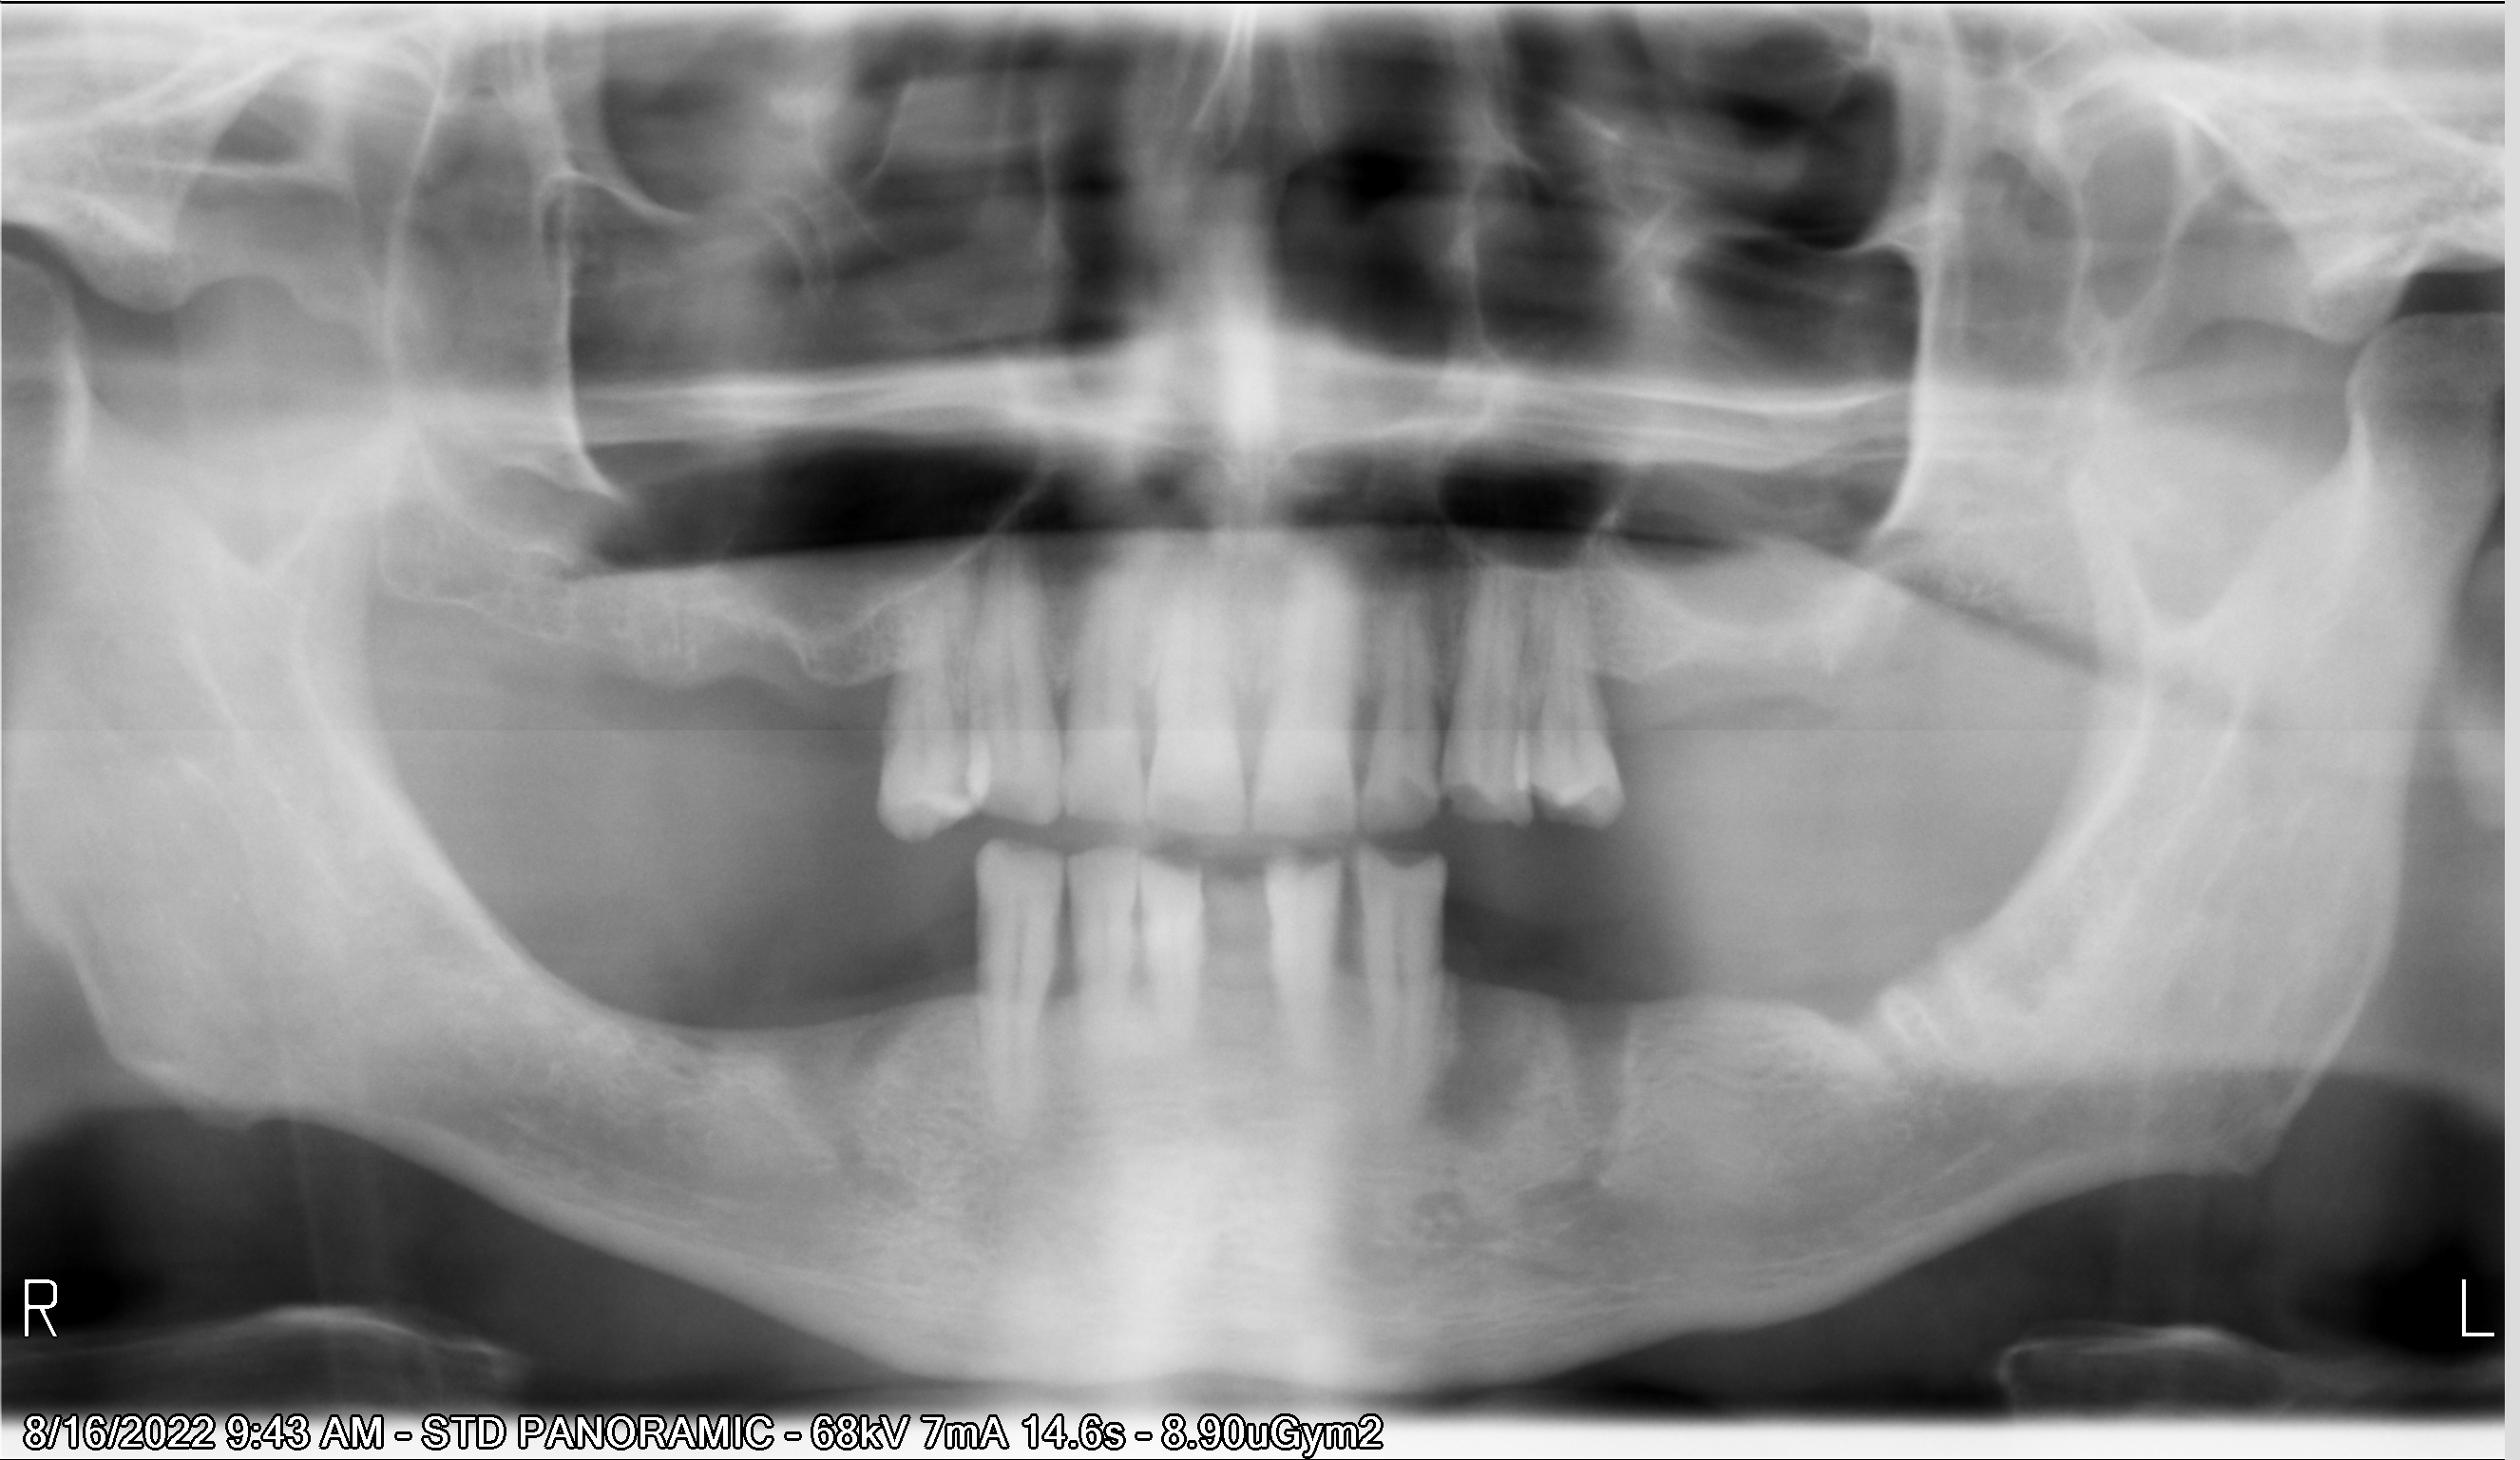BON: (1438, 900, 1492, 984), (1205, 912, 1268, 979), (1226, 680, 1278, 756), (851, 674, 903, 749), (1044, 926, 1089, 1005), (1327, 909, 1377, 977), (934, 926, 985, 992), (1120, 688, 1171, 754), (1598, 667, 1646, 735), (1348, 702, 1382, 763), (1039, 687, 1075, 744), (1422, 699, 1457, 754)
